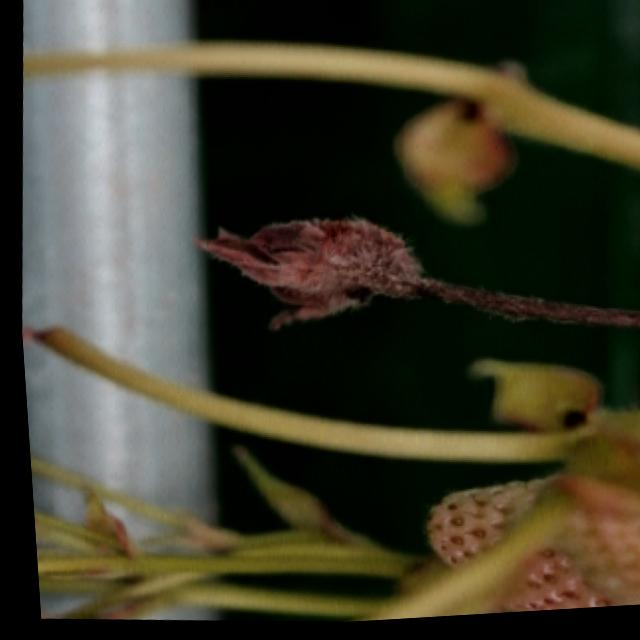Gray Mold: (192, 220, 460, 336)
